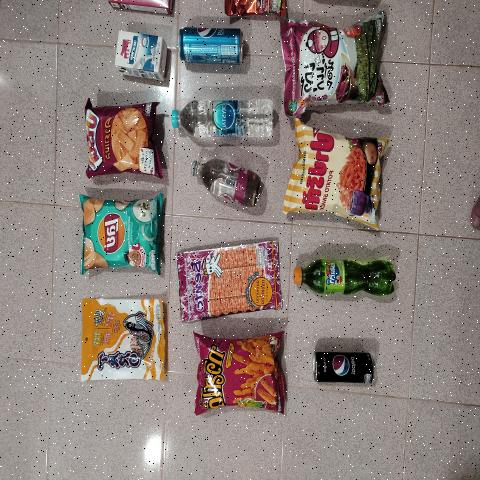bento_red: (178, 246, 268, 320)
crystal: (171, 95, 275, 138)
fanta_green: (291, 255, 396, 302)
lay_blue: (81, 202, 157, 270)
paprika: (284, 135, 388, 212)
party_red: (87, 110, 154, 173)
pepsi_black: (314, 349, 374, 382)
pepsi_blue: (177, 25, 245, 65)
singha_soda: (194, 154, 268, 206)
taokaenoi: (288, 27, 384, 109)
taro_yellow: (80, 300, 165, 382)
thai_denmark: (118, 38, 165, 79)
twisco: (196, 337, 282, 413)
